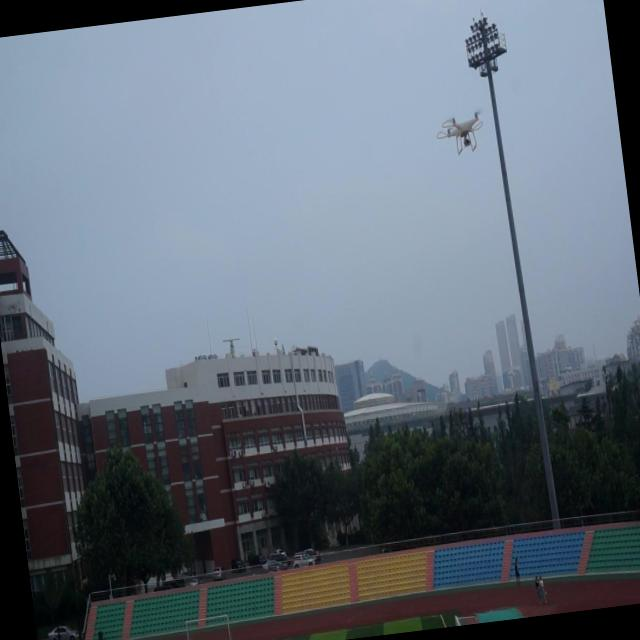drone: (432, 105, 487, 156)
